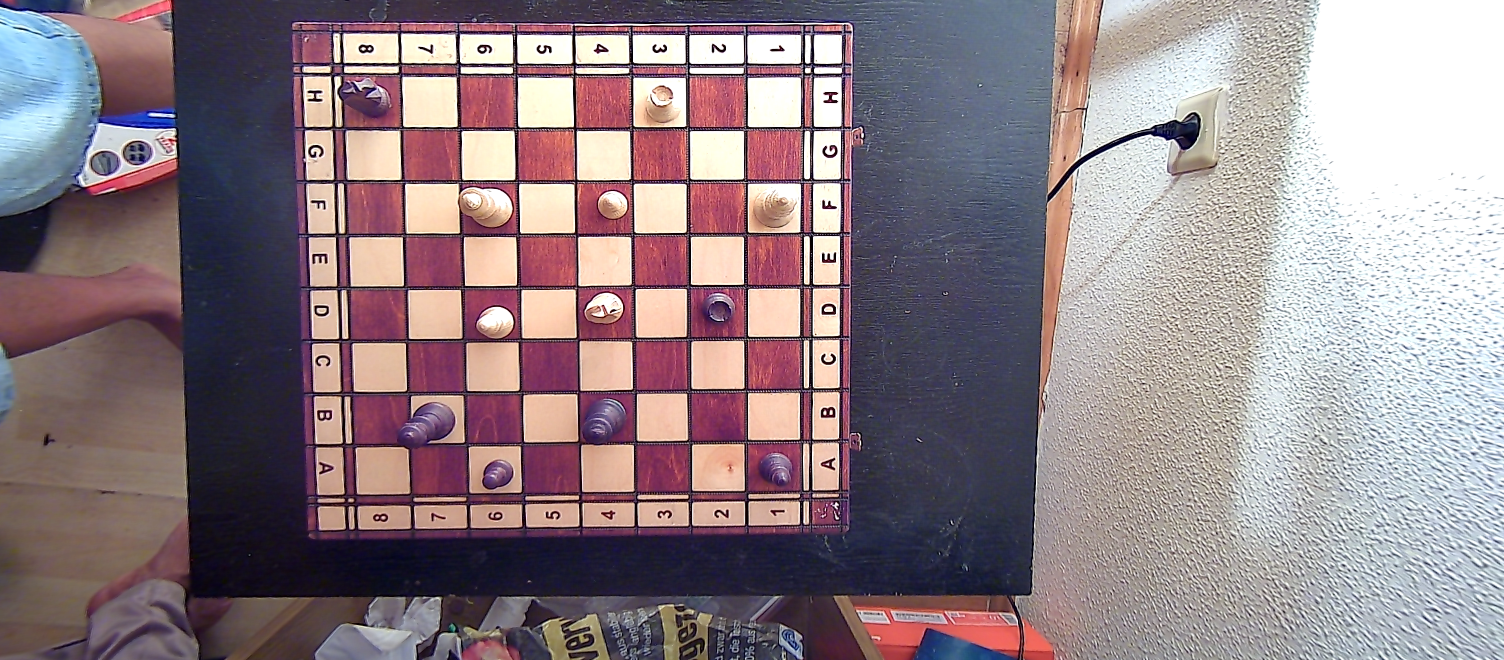black-bishop: (757, 447, 799, 492)
black-king: (580, 395, 628, 444)
black-knight: (337, 76, 394, 120)
black-pawn: (479, 456, 515, 495)
black-queen: (395, 400, 457, 450)
black-rook: (702, 290, 738, 327)
white-bishop: (472, 303, 517, 343)
white-king: (457, 184, 514, 228)
white-knight: (583, 289, 625, 328)
white-pawn: (592, 185, 631, 222)
white-queen: (753, 183, 803, 229)
white-rook: (642, 83, 681, 124)
